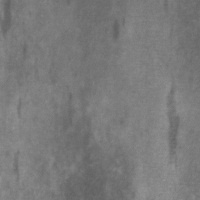inclusion: (55, 109, 129, 198), (159, 79, 183, 170), (10, 150, 29, 190), (107, 15, 130, 48), (0, 1, 18, 38)
